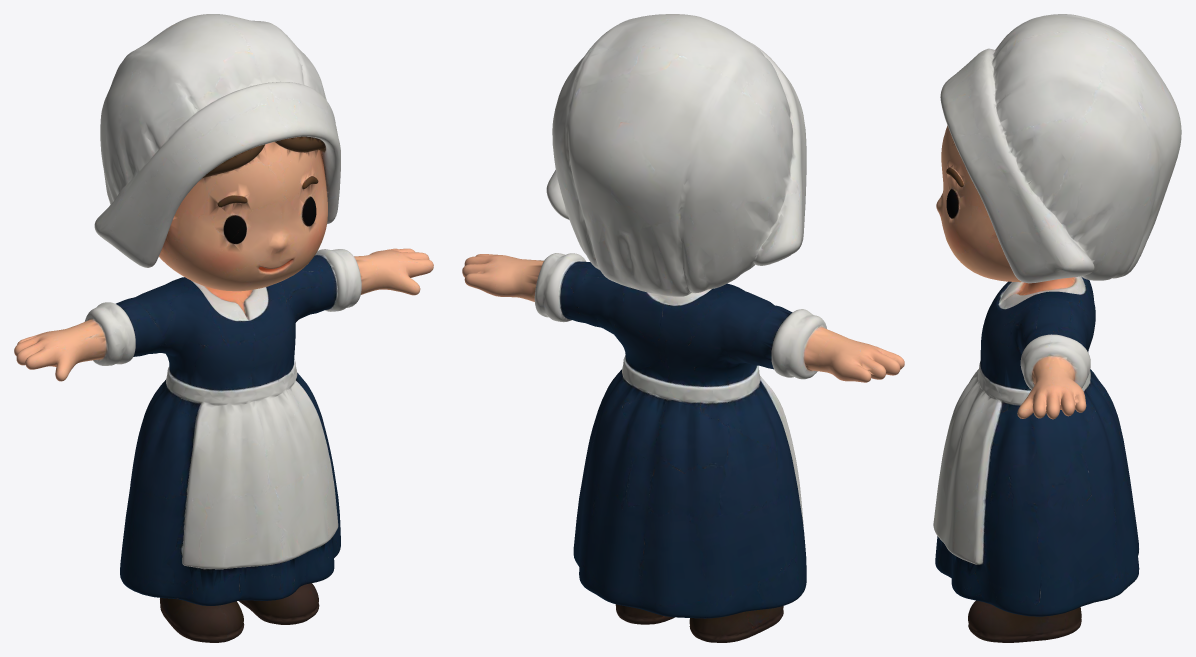
Rendered from a3D-sirvienta.glb.
3 views of the same model, side by side, from view 1: azimuth 30°, elevation 25°; view 2: azimuth 150°, elevation 25°; view 3: azimuth 270°, elevation 25° (orthographic). The views are drawn at different scales.
Parts seen in each view (by area): view 1: geometry_0; view 2: geometry_0; view 3: geometry_0.
Boxes of the visible parts, x1,y1,x2,y2 form: geometry_0: [14, 14, 433, 642]; geometry_0: [462, 14, 904, 642]; geometry_0: [933, 14, 1181, 642].
Bounding box in the file's own units: 1.42 × 1.9 × 0.7302.
Materials: 1 (1 with a texture image).
